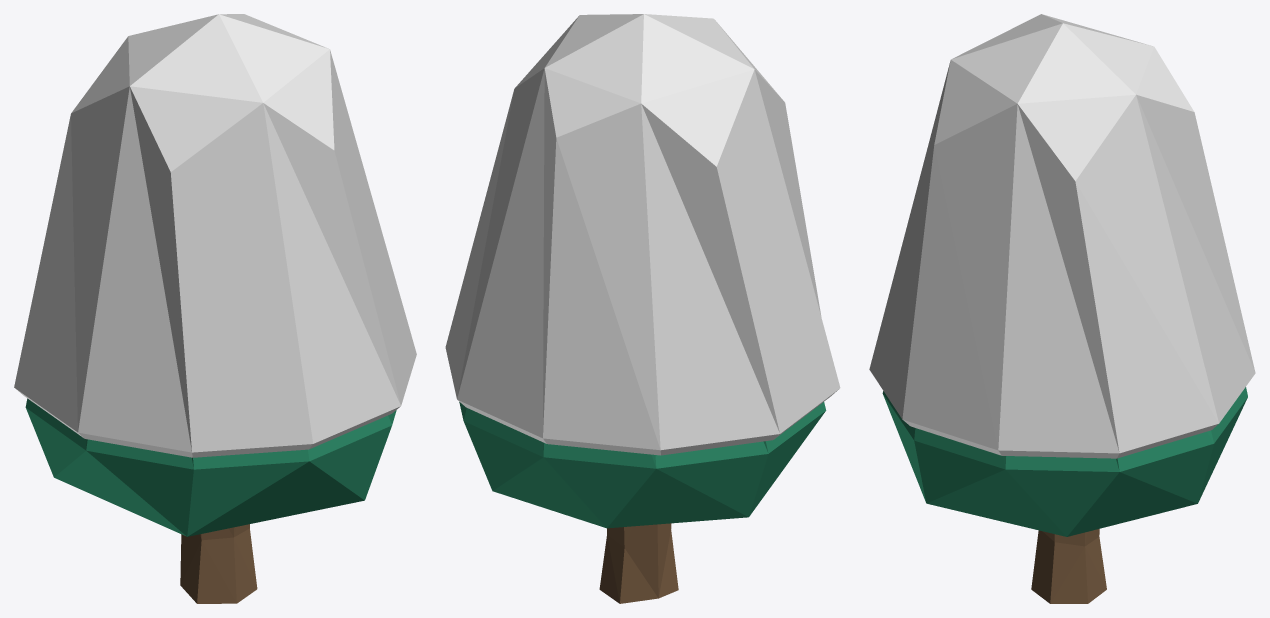
The model's file is StonePineWinter.fbx.
3 renders of one model, left to right at view 1: azimuth 30°, elevation 25°; view 2: azimuth 150°, elevation 25°; view 3: azimuth 270°, elevation 25°, orthographic. The views are drawn at different scales.
Visible parts, largest first — view 1: Stone_pine_winter; view 2: Stone_pine_winter; view 3: Stone_pine_winter.
Boxes of the visible parts, x1,y1,x2,y2 form: Stone_pine_winter: (14,14,416,603); Stone_pine_winter: (445,14,840,603); Stone_pine_winter: (869,14,1255,603).
Size of the model in its own units: 1.3 by 2.1 by 1.3.
